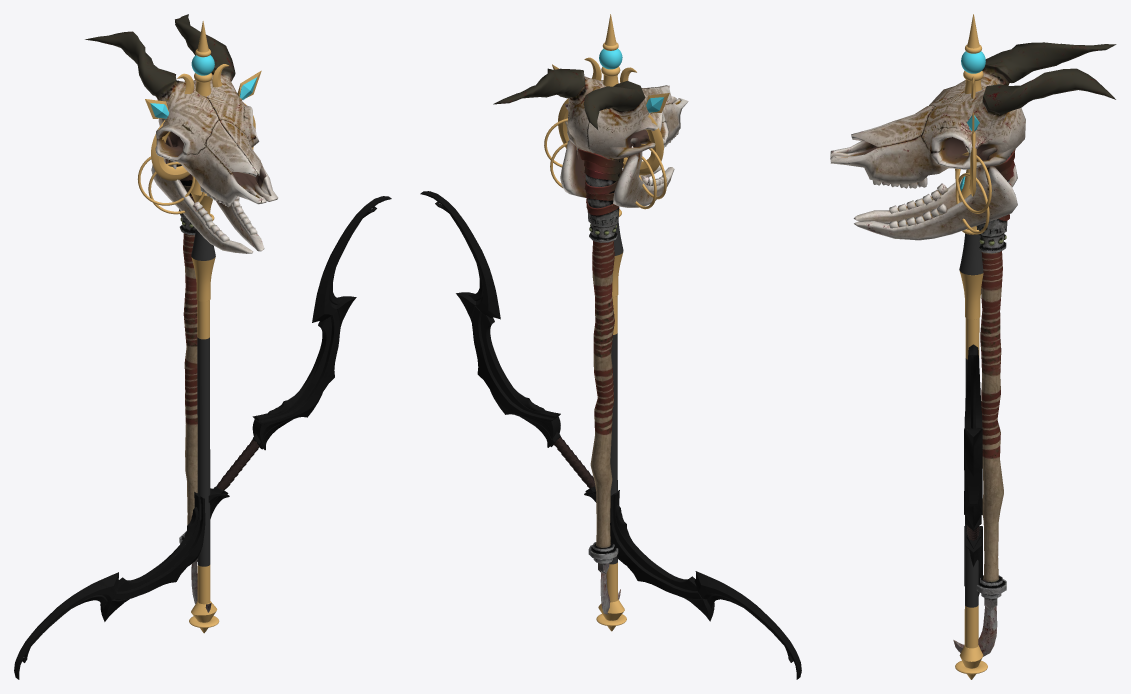
Rendered from authored-weapons.glb.
The picture shows the model from 3 angles, left to right: view 1: azimuth 30°, elevation 25°; view 2: azimuth 150°, elevation 25°; view 3: azimuth 270°, elevation 25°; orthographic projection. The views are drawn at different scales.
Parts seen in each view (by area): view 1: g (×3), group2, polySurface1 (×2), polySurface7 (×2); view 2: g (×4), group2, polySurface1 (×2), polySurface7 (×2); view 3: g (×4), group2, polySurface1, polySurface7, polySurface4.
Boxes of the visible parts, <box> form: g (×3): <box>85,14,278,543</box>; group2: <box>137,21,261,633</box>; polySurface1 (×2): <box>112,310,340,599</box>; polySurface7 (×2): <box>14,196,391,679</box>; g (×4): <box>493,68,688,563</box>; group2: <box>544,14,669,631</box>; polySurface1 (×2): <box>472,306,702,598</box>; polySurface7 (×2): <box>420,191,801,679</box>; g (×4): <box>830,42,1116,656</box>; group2: <box>955,14,991,679</box>; polySurface1: <box>964,429,982,514</box>; polySurface7: <box>964,344,982,428</box>; polySurface4: <box>964,428,982,475</box>.
Size of the model in its own units: 1.35 by 2.1 by 0.8192.
Materials: 6 (3 with a texture image).
